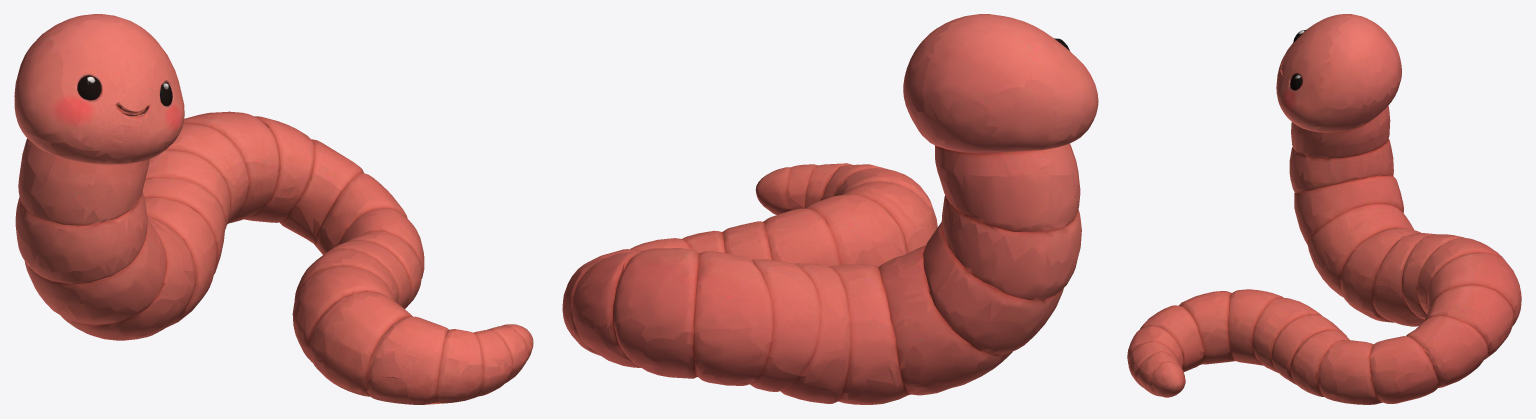
The model's file is props_mato.glb.
3 renders of one model, left to right at view 1: azimuth 30°, elevation 25°; view 2: azimuth 150°, elevation 25°; view 3: azimuth 270°, elevation 25°, orthographic. The views are drawn at different scales.
Parts seen in each view (by area): view 1: output_unwrapped; view 2: output_unwrapped; view 3: output_unwrapped.
Part boxes in pixels (x1,y1,x2,y2): output_unwrapped: (14, 14, 533, 404); output_unwrapped: (562, 14, 1098, 404); output_unwrapped: (1127, 14, 1521, 404).
Bounding box in the file's own units: 0.1903 × 0.1471 × 0.2.
1 material, 1 textured.
